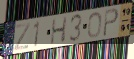1: (32, 20, 40, 48)
3: (68, 13, 83, 43)
H: (50, 16, 68, 46)
O: (87, 11, 103, 39)
P: (102, 7, 120, 39)
Z: (13, 21, 31, 52)
